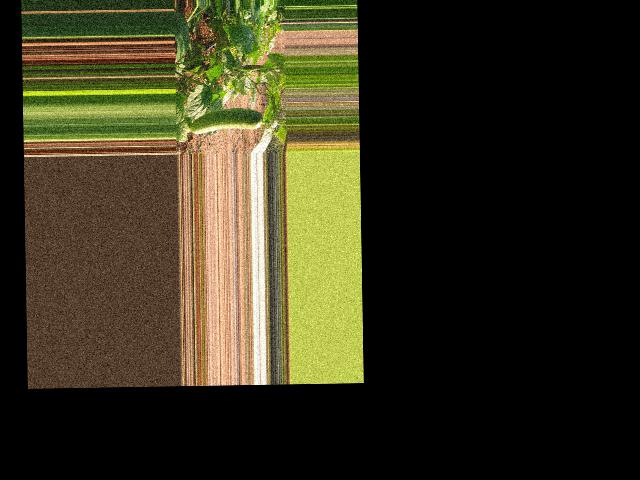cucumber: (189, 108, 262, 134)
